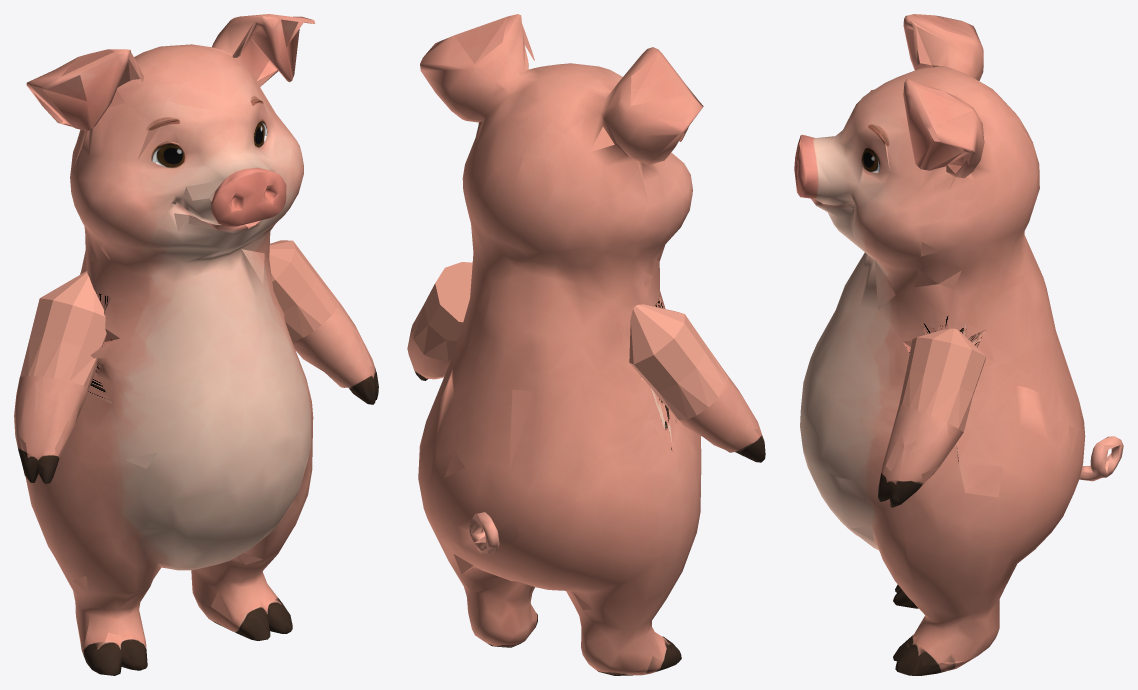
File: pig-upper.glb
3 views of the same model, side by side, from view 1: azimuth 30°, elevation 25°; view 2: azimuth 150°, elevation 25°; view 3: azimuth 270°, elevation 25° (orthographic). The views are drawn at different scales.
Visible parts, largest first — view 1: pig_arms; view 2: pig_arms; view 3: pig_arms.
Part boxes in pixels (x1,y1,x2,y2): pig_arms: (14, 14, 378, 675); pig_arms: (407, 14, 765, 675); pig_arms: (794, 14, 1123, 675).
Size of the model in its own units: 1.14 by 1.9 by 0.9729.
Materials: 1 (1 with a texture image).
